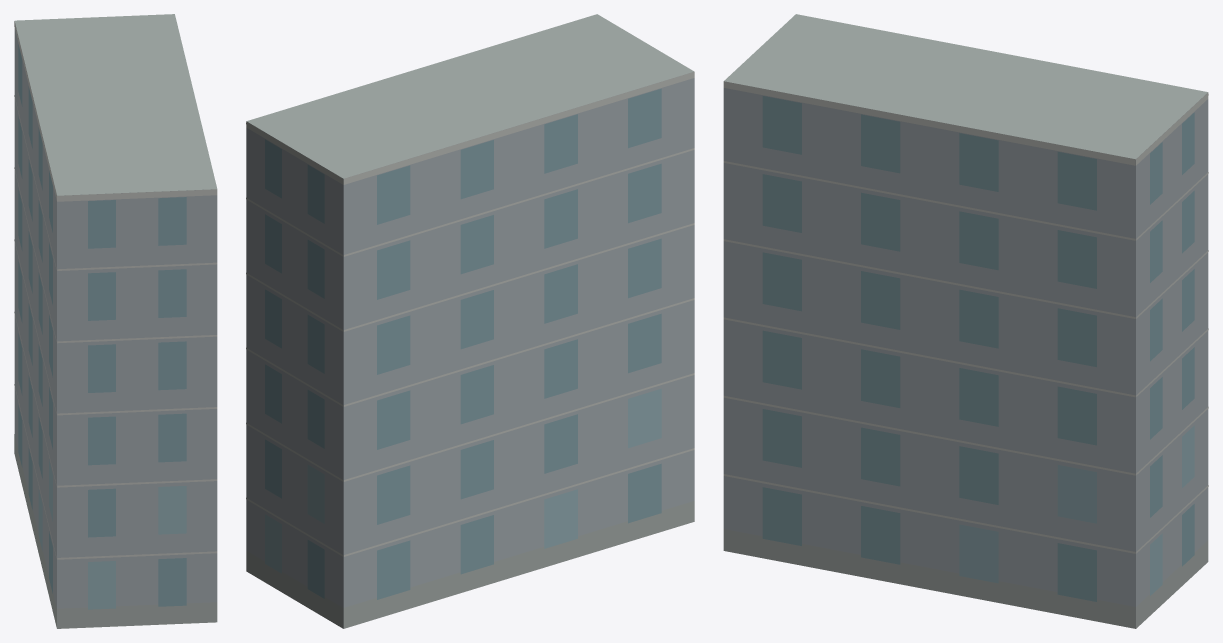
File: survey-upis-33044046.glb
3 views of the same model, side by side, from view 1: azimuth 30°, elevation 25°; view 2: azimuth 150°, elevation 25°; view 3: azimuth 270°, elevation 25° (orthographic). The views are drawn at different scales.
Visible parts, largest first — view 1: survey-upis-33044046.tmp; view 2: survey-upis-33044046.tmp; view 3: survey-upis-33044046.tmp.
Boxes of the visible parts, <box> form: survey-upis-33044046.tmp: <box>14,14,217,628</box>; survey-upis-33044046.tmp: <box>246,14,694,628</box>; survey-upis-33044046.tmp: <box>723,14,1208,628</box>.
Size of the model in its own units: 11.63 by 17.5 by 16.39.
